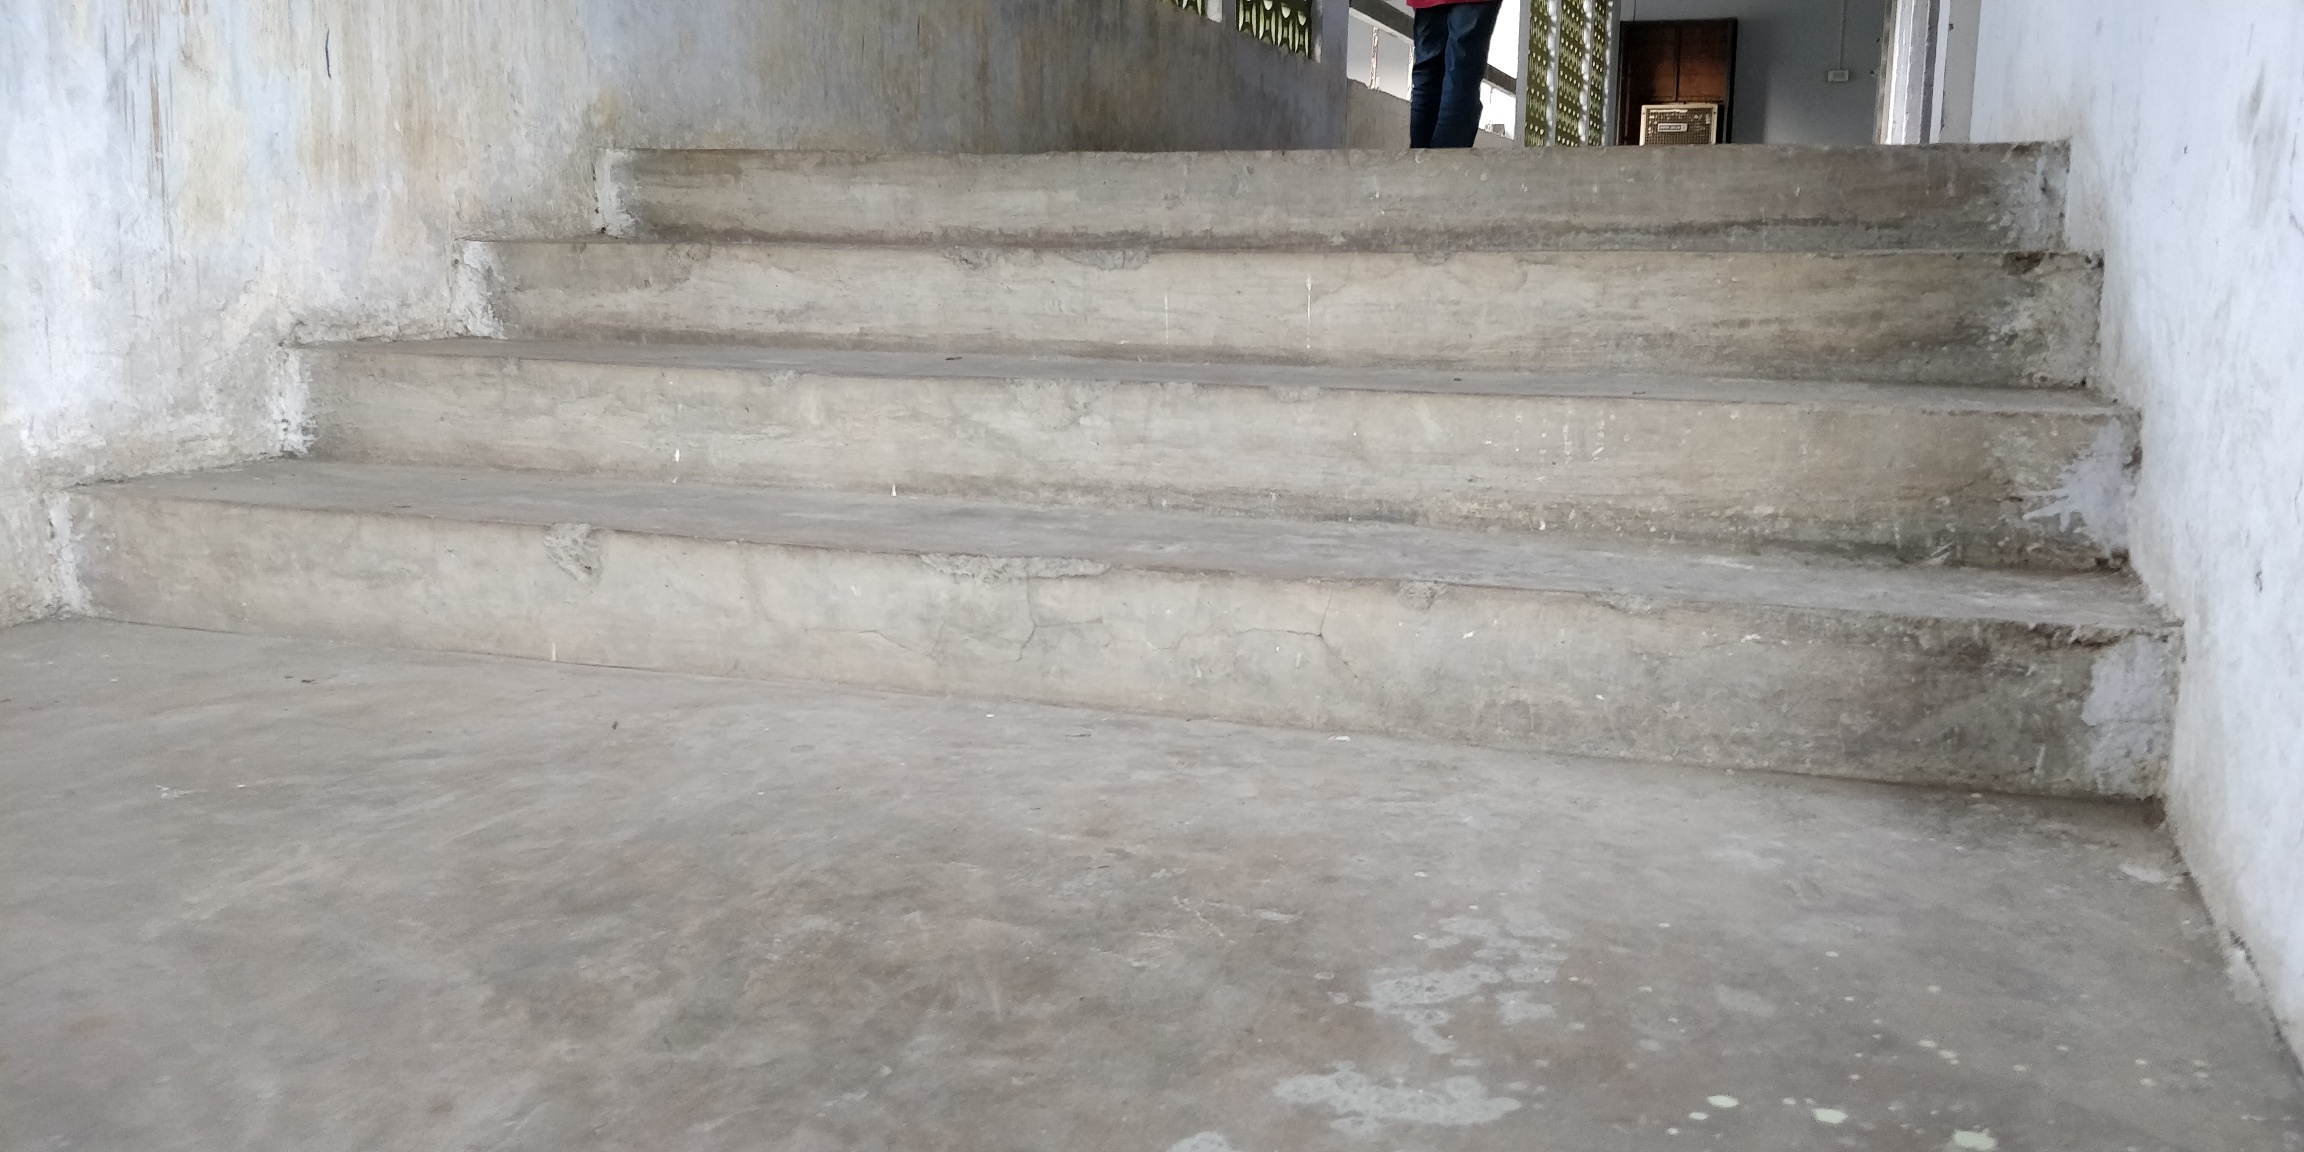stairs_up: (87, 109, 2172, 802)
